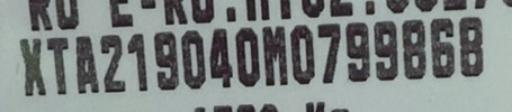letter: (286, 22, 318, 84), (343, 18, 373, 84), (370, 18, 400, 83), (426, 16, 456, 80), (398, 17, 428, 81), (314, 21, 344, 85), (457, 14, 487, 77), (262, 24, 290, 90), (180, 28, 210, 88), (152, 29, 182, 88), (234, 24, 260, 90), (206, 28, 234, 87), (19, 36, 47, 95), (126, 29, 150, 94), (75, 32, 99, 96), (102, 30, 126, 93), (48, 34, 70, 89)
